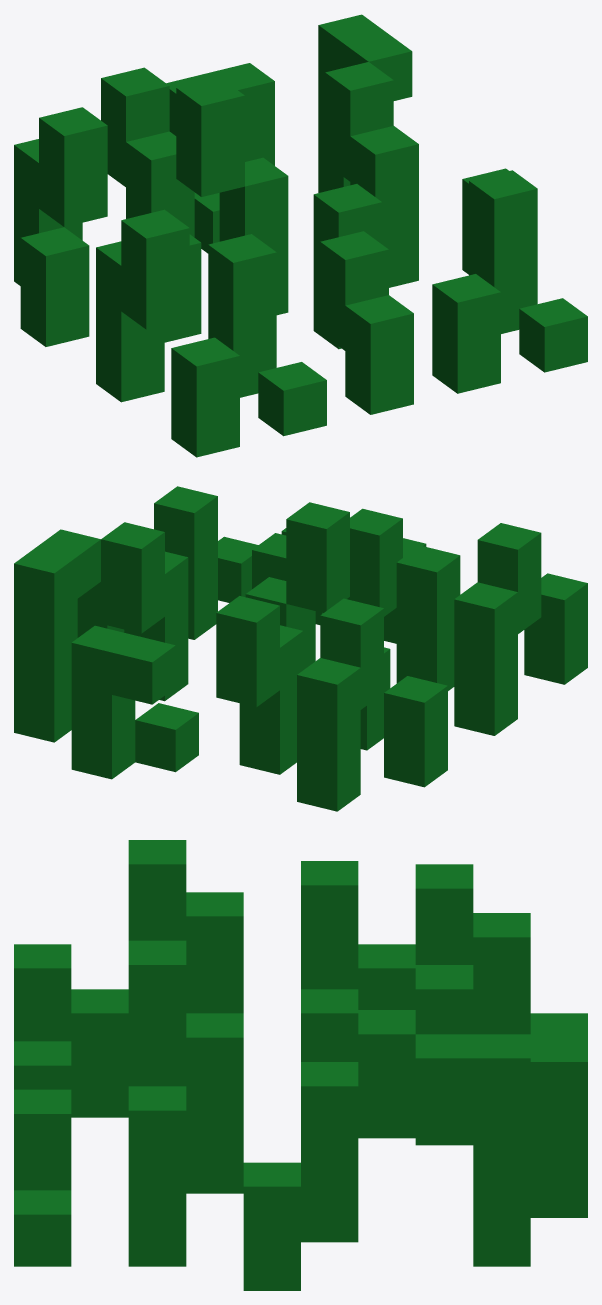
The model's file is grass2.dae.
The picture shows the model from 3 angles, top to bottom: view 1: azimuth 30°, elevation 25°; view 2: azimuth 150°, elevation 25°; view 3: azimuth 270°, elevation 25°; orthographic projection. The views are drawn at different scales.
Visible parts, largest first — view 1: PlaneCOL; view 2: PlaneCOL; view 3: PlaneCOL.
Part boxes in pixels (x1,y1,x2,y2): PlaneCOL: (14,14,587,457); PlaneCOL: (14,486,587,811); PlaneCOL: (14,840,587,1290).
Size of the model in its own units: 1 by 1 by 0.5.
